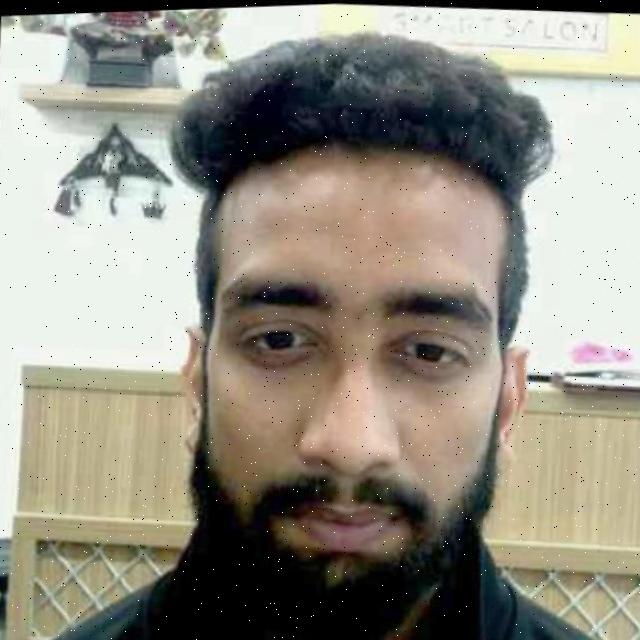puffy_eyes: (238, 343, 319, 370), (385, 353, 462, 378)
